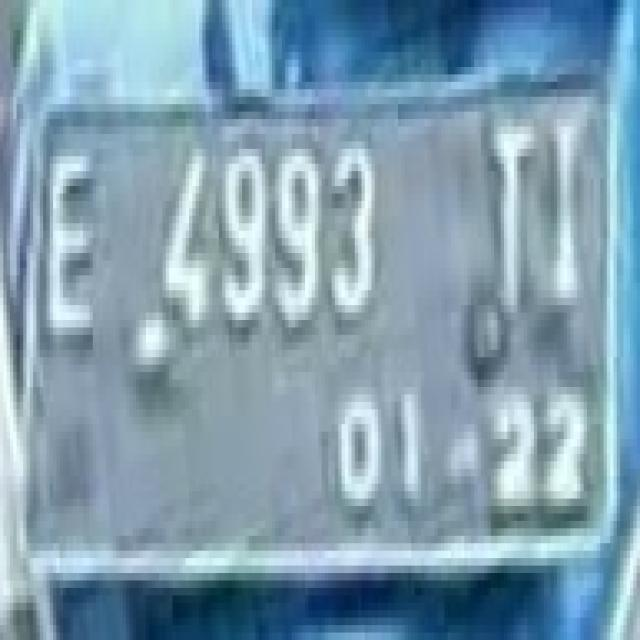plate: (26, 89, 617, 558)
